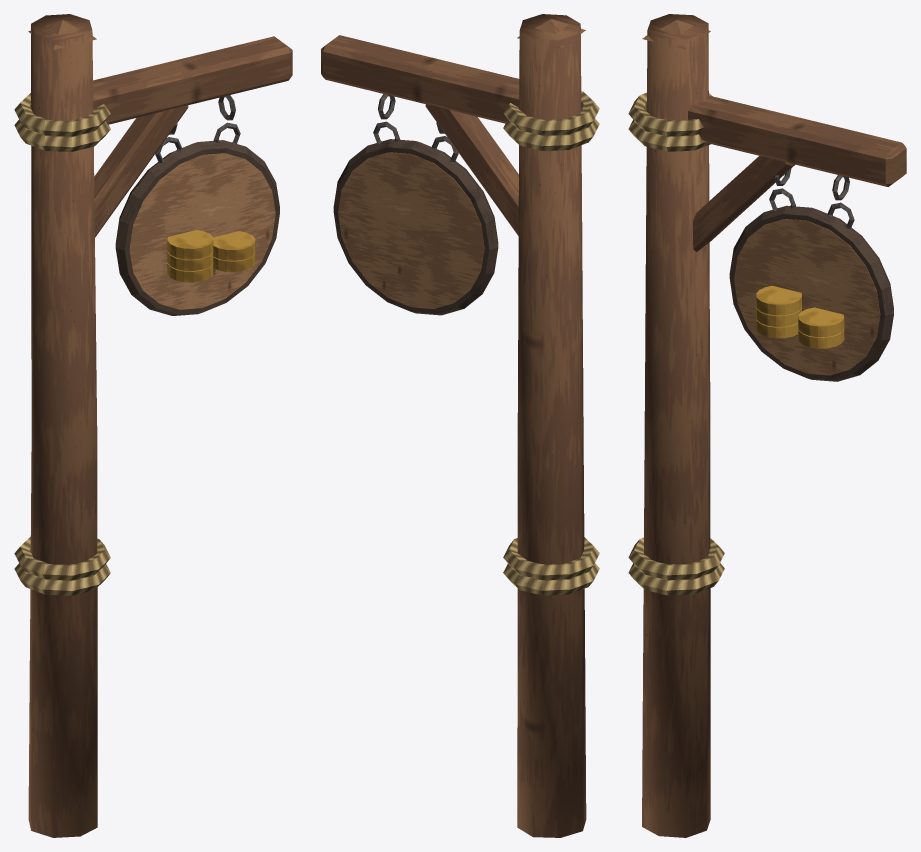
The model's file is toll_sign.glb.
The picture shows the model from 3 angles, left to right: view 1: azimuth 30°, elevation 25°; view 2: azimuth 150°, elevation 25°; view 3: azimuth 330°, elevation 25°; orthographic projection.
Visible parts, largest first — view 1: toll_sign_post, toll_sign_bracket, toll_sign_round_sign, toll_sign_coin_emblem; view 2: toll_sign_post, toll_sign_round_sign, toll_sign_bracket; view 3: toll_sign_post, toll_sign_round_sign, toll_sign_bracket, toll_sign_coin_emblem.
Boxes of the visible parts, box(x1,y1,x2,y2) form: toll_sign_post: box(28, 14, 97, 837); toll_sign_bracket: box(14, 36, 292, 595); toll_sign_round_sign: box(115, 95, 279, 315); toll_sign_coin_emblem: box(167, 230, 255, 282); toll_sign_post: box(517, 14, 586, 837); toll_sign_round_sign: box(333, 94, 498, 315); toll_sign_bracket: box(321, 35, 599, 595); toll_sign_post: box(642, 14, 710, 837); toll_sign_round_sign: box(729, 169, 893, 381); toll_sign_bracket: box(628, 92, 906, 595); toll_sign_coin_emblem: box(756, 285, 844, 348).
Size of what is drawn, in the model's own units: 0.725 by 2.1 by 0.2244.
6 materials, 6 textured.
